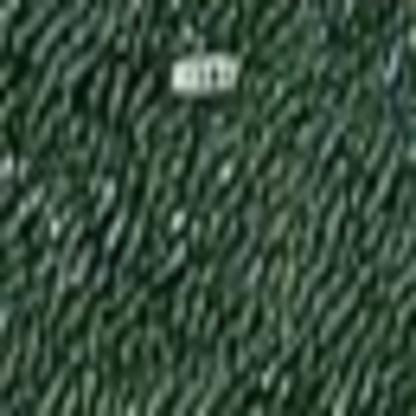ship: (166, 43, 246, 107)
